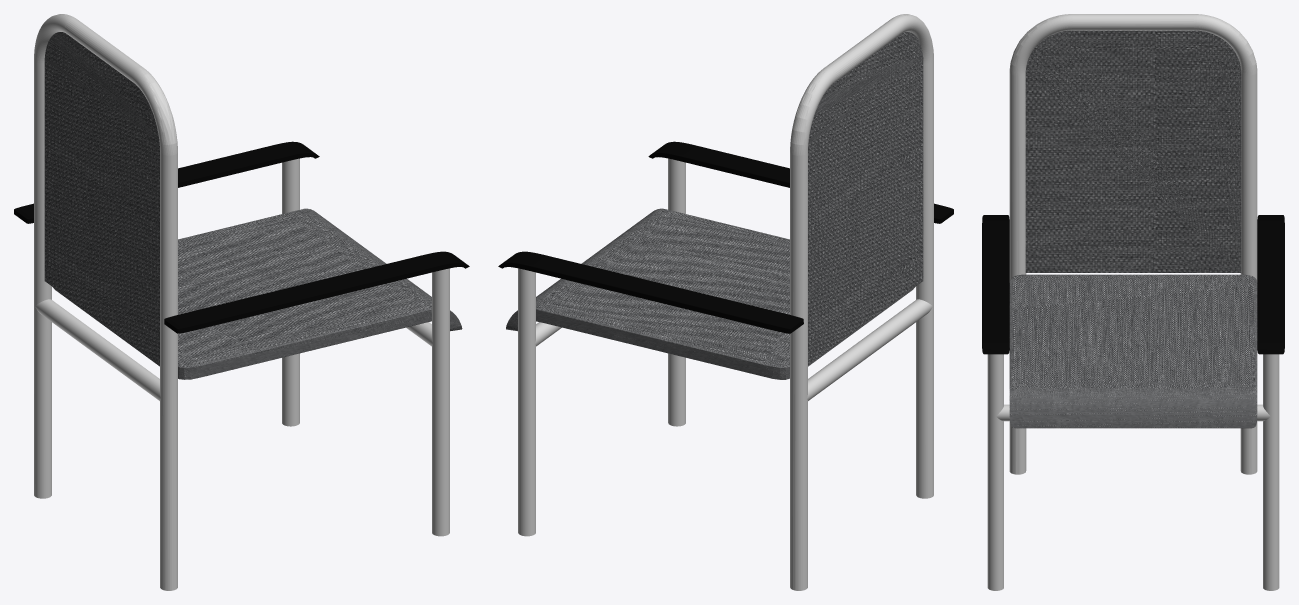
The model's file is graychaircut.fbx.
3 renders of one model, left to right at view 1: azimuth 30°, elevation 25°; view 2: azimuth 150°, elevation 25°; view 3: azimuth 270°, elevation 25°, orthographic. The views are drawn at different scales.
Visible parts, largest first — view 1: Cube.005, Cube.003, Torus.001, Torus.002, Cube, Cylinder.001, Cube.001, Cylinder, Cylinder.003; view 2: Cube.005, Cube.003, Torus.002, Torus.001, Cube.001, Cylinder.003, Cube, Cylinder, Cylinder.001; view 3: Cube.005, Cube.003, Torus.001, Torus.002, Cylinder.001, Cylinder.003, Cube, Cube.001.
Part boxes in pixels (left/top/right/bottom): Cube.005: left=44, top=32, right=159, bottom=364; Cube.003: left=53, top=208, right=462, bottom=379; Torus.001: left=65, top=19, right=177, bottom=590; Torus.002: left=34, top=14, right=76, bottom=498; Cube: left=164, top=251, right=469, bottom=333; Cylinder.001: left=432, top=268, right=449, bottom=536; Cube.001: left=14, top=141, right=319, bottom=223; Cylinder: left=35, top=299, right=160, bottom=400; Cylinder.003: left=282, top=158, right=299, bottom=426; Cube.005: left=808, top=32, right=923, bottom=364; Cube.003: left=506, top=208, right=914, bottom=379; Torus.002: left=790, top=67, right=836, bottom=590; Torus.001: left=824, top=14, right=933, bottom=498; Cube.001: left=498, top=251, right=803, bottom=333; Cylinder.003: left=518, top=268, right=535, bottom=536; Cube: left=648, top=141, right=953, bottom=223; Cylinder: left=806, top=299, right=932, bottom=400; Cylinder.001: left=668, top=158, right=685, bottom=426; Cube.005: left=1025, top=30, right=1241, bottom=272; Cube.003: left=1009, top=274, right=1257, bottom=428; Torus.001: left=1009, top=14, right=1193, bottom=474; Torus.002: left=1194, top=14, right=1257, bottom=474; Cylinder.001: left=987, top=354, right=1003, bottom=590; Cylinder.003: left=1263, top=354, right=1279, bottom=590; Cube: left=982, top=215, right=1009, bottom=354; Cube.001: left=1257, top=215, right=1284, bottom=354.
Size of the model in its own units: 57.79 by 91.5 by 55.
3 materials, 1 textured.
